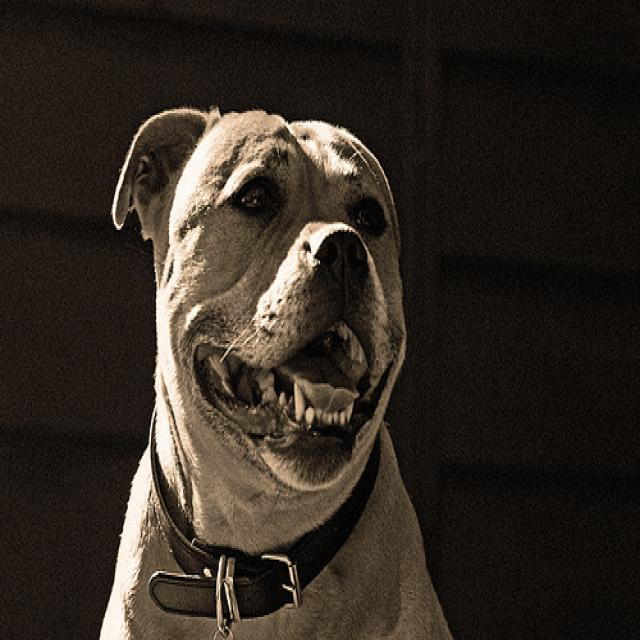dog-staffordshire_bull_terrier: (90, 103, 456, 636)
